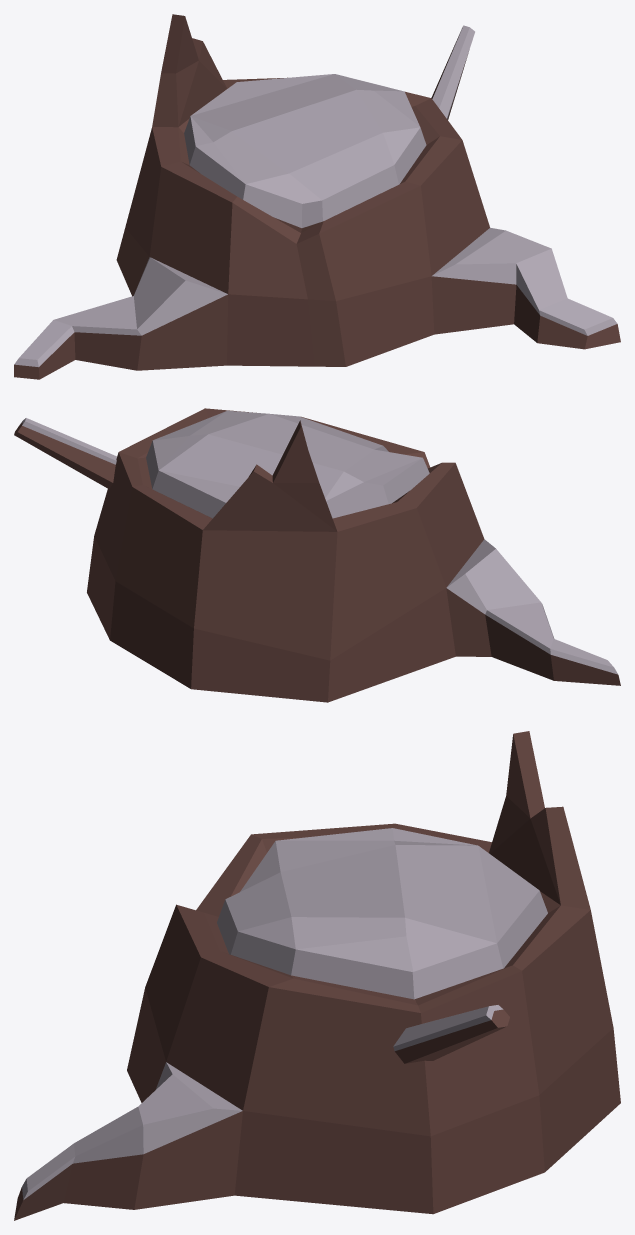
The model's file is TreeStump_Snow.gltf.
3 renders of one model, top to bottom at view 1: azimuth 30°, elevation 25°; view 2: azimuth 150°, elevation 25°; view 3: azimuth 270°, elevation 25°, orthographic. The views are drawn at different scales.
Visible parts, largest first — view 1: TreeStump_Snow; view 2: TreeStump_Snow; view 3: TreeStump_Snow.
Boxes of the visible parts, box(x1,y1,x2,y2) form: TreeStump_Snow: box(14, 14, 620, 379); TreeStump_Snow: box(14, 408, 620, 702); TreeStump_Snow: box(14, 731, 620, 1220).
Size of the model in its own units: 1.36 by 0.6216 by 1.03.
